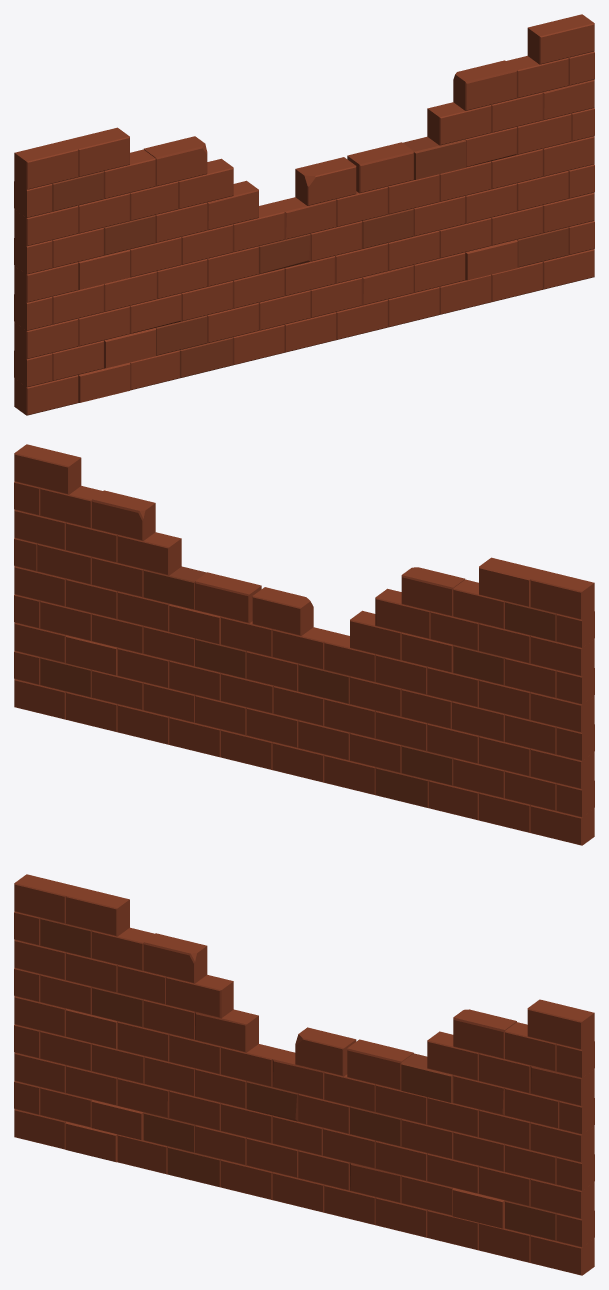
The model's file is Wall_07.fbx.
The picture shows the model from 3 angles, top to bottom: view 1: azimuth 30°, elevation 25°; view 2: azimuth 150°, elevation 25°; view 3: azimuth 330°, elevation 25°; orthographic projection.
Visible parts, largest first — view 1: Wall_07; view 2: Wall_07; view 3: Wall_07.
Part boxes in pixels (x1,y1,x2,y2): Wall_07: (14, 14, 594, 415); Wall_07: (14, 444, 594, 845); Wall_07: (14, 874, 594, 1275).
Size of the model in its own units: 500 by 214 by 22.27.
